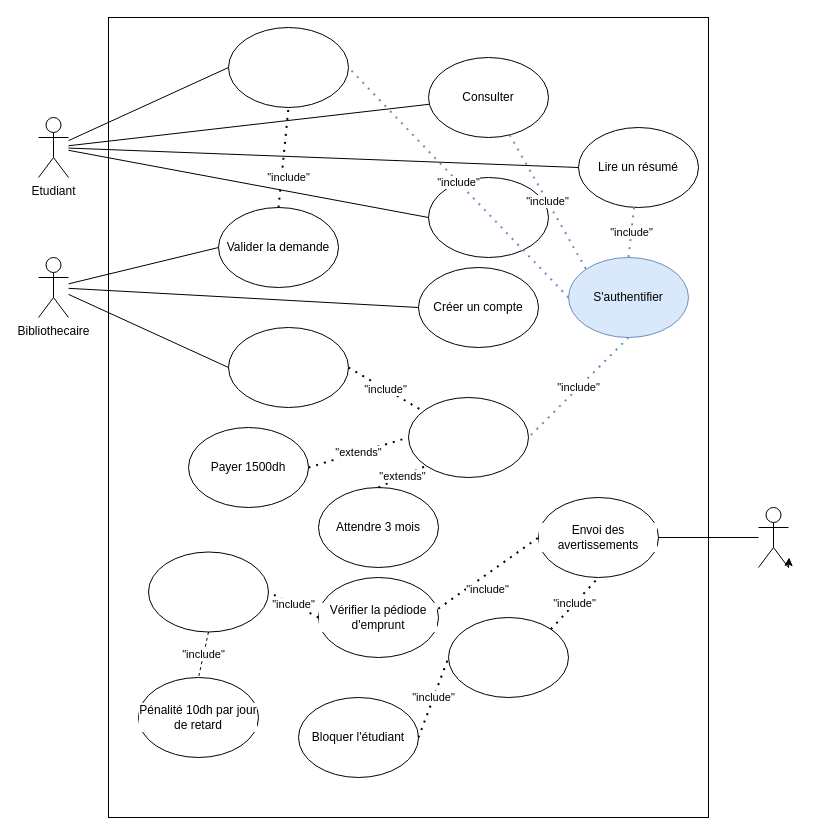
The diagram is 826 pixels wide and 835 high, and some of its shapes have lost their labels. Here are the shapes that lost their labels. From the top down, the centre of each, then its label:
At [288,67]: "Demander".
At [488,217]: "Rendre le livre".
At [288,367]: "Débloquer l'étudiant".
At [468,437]: "Mode de pénalité".
At [773,537]: "Adminitrateur".
At [208,591]: "Calculer nbr de jours de retard".
At [508,657]: "Vérifier nbr Avertissements <= 3".
